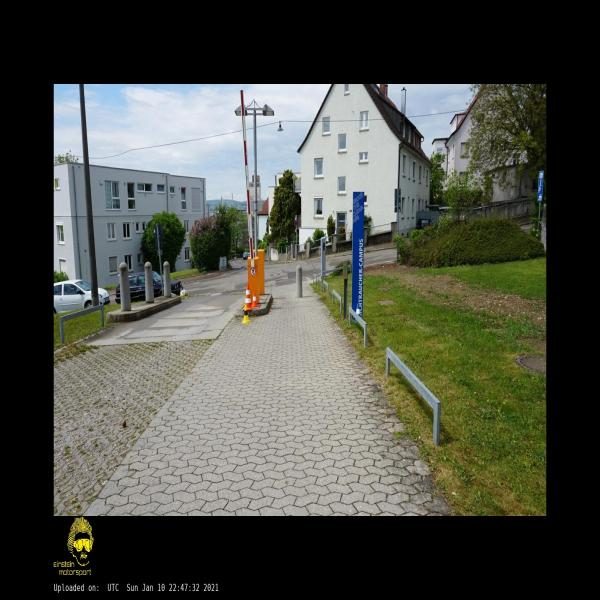large_orange_cone: (243, 283, 251, 310)
orange_cone: (251, 290, 258, 306)
yellow_cone: (242, 305, 250, 323)
